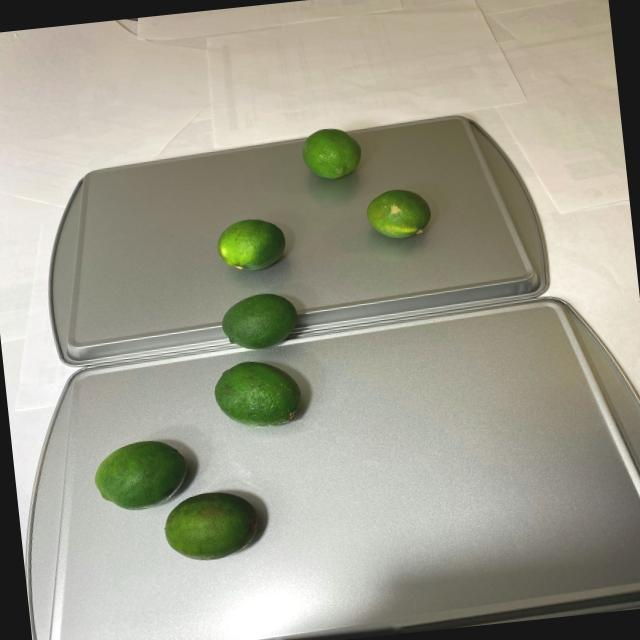lemon: (56, 118, 466, 576)
